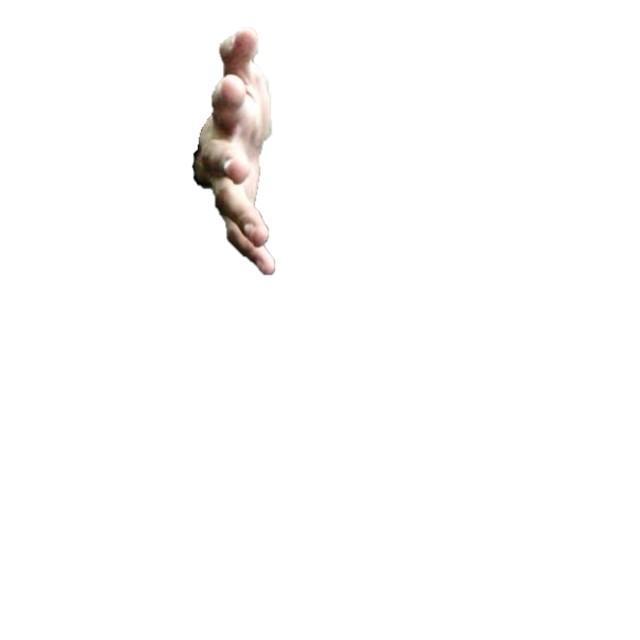pa-: (191, 28, 277, 277)
